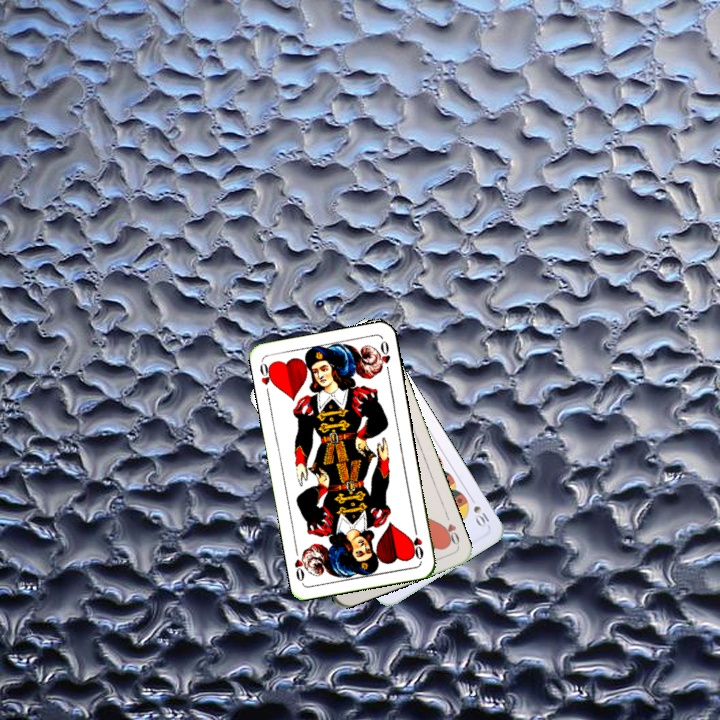HO: (437, 509, 462, 549), (256, 358, 277, 398), (408, 522, 426, 562)
S10: (465, 492, 492, 530)
